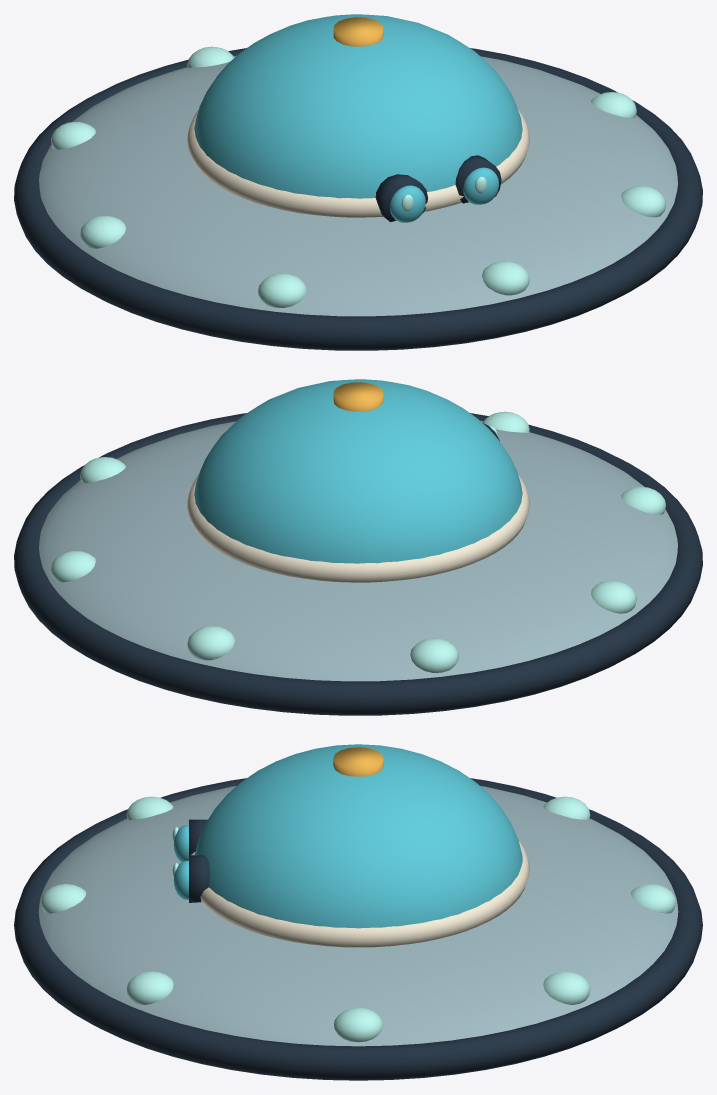
Rendered from ufo.glb.
3 views of the same model, one above another, from view 1: azimuth 30°, elevation 25°; view 2: azimuth 150°, elevation 25°; view 3: azimuth 270°, elevation 25° (orthographic).
Visible parts, largest first — view 1: BodyMesh, RimSpinMesh; view 2: BodyMesh, RimSpinMesh; view 3: BodyMesh, RimSpinMesh.
Boxes of the visible parts, x1,y1,x2,y2 form: BodyMesh: (14, 14, 702, 350); RimSpinMesh: (51, 46, 665, 307); BodyMesh: (14, 379, 702, 715); RimSpinMesh: (51, 411, 665, 672); BodyMesh: (14, 744, 702, 1080); RimSpinMesh: (41, 796, 675, 1042).
Bounding box in the file's own units: 1.79 × 0.72 × 1.79.
